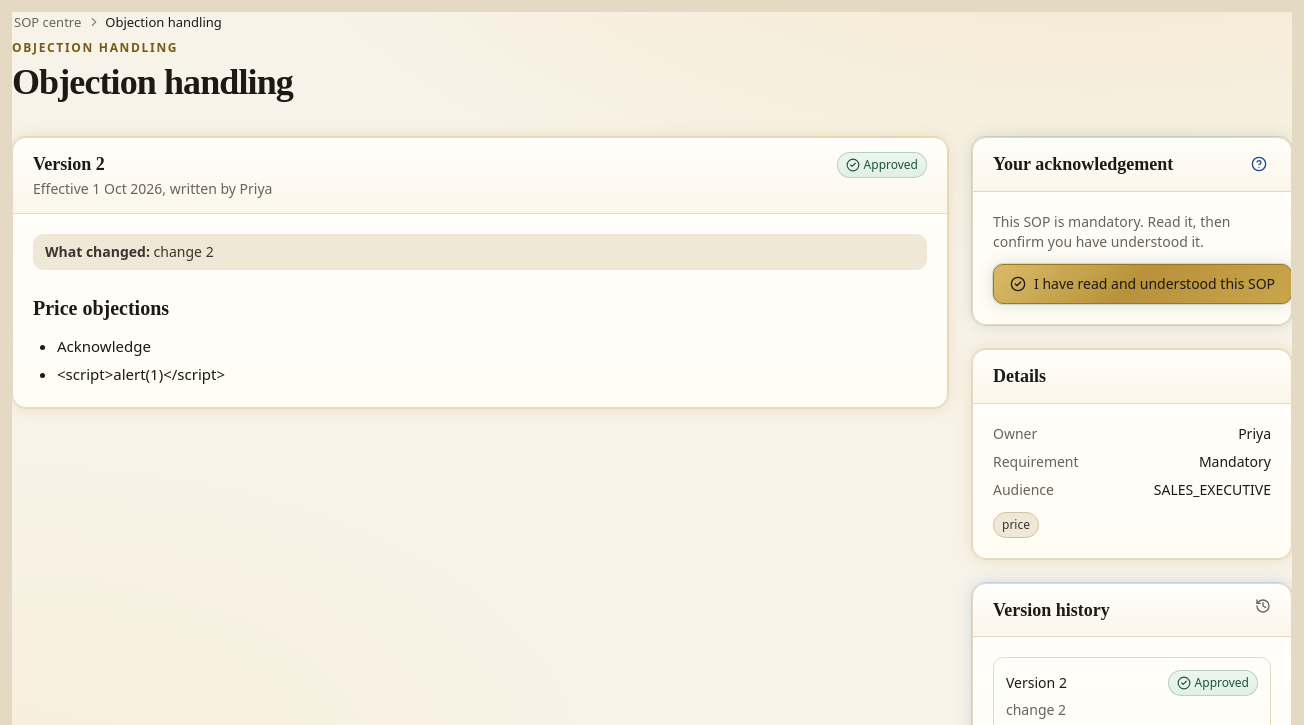
Test case: SOP reader › acknowledges the effective version: POST, then the acknowledged state
Click the button "I have read and understood this SOP" at (1142, 284), box [993,264,1292,304]
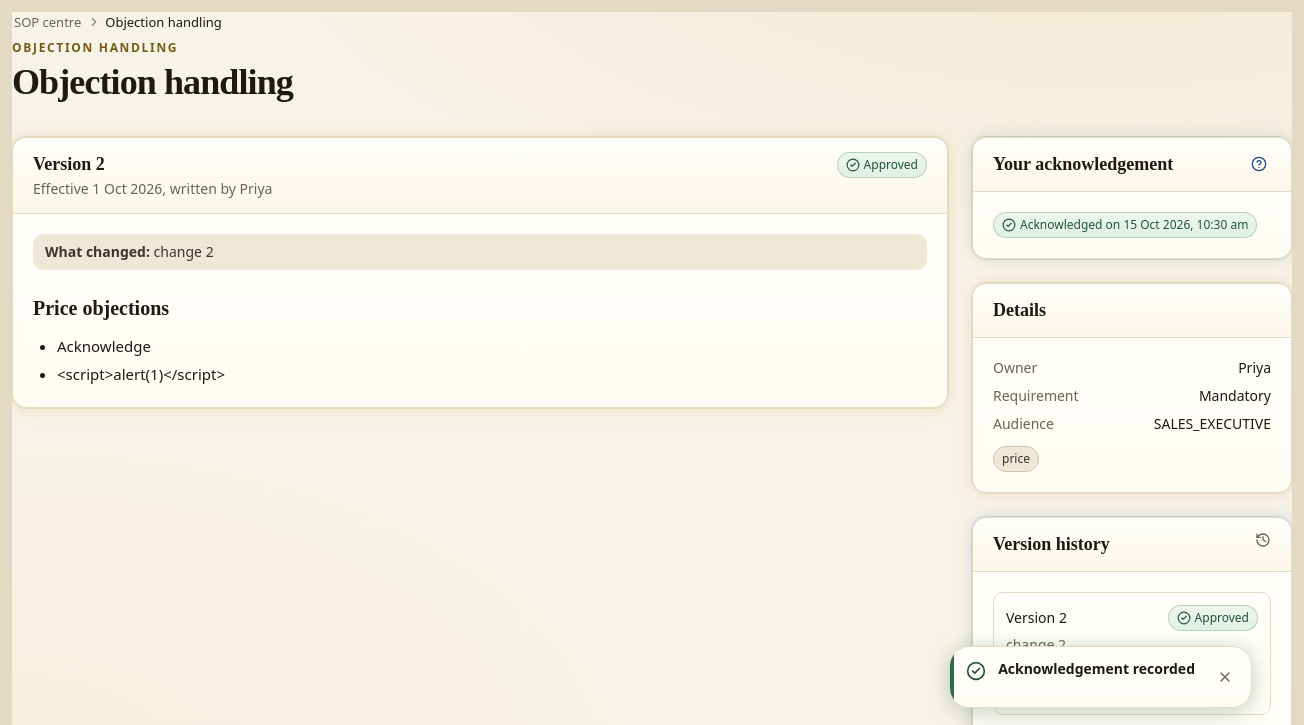
Now the text "Acknowledged on 15 Oct 2026, 10:30 am" is shown, box [993,212,1257,238]
Now the button "I have read and understood" is gone
